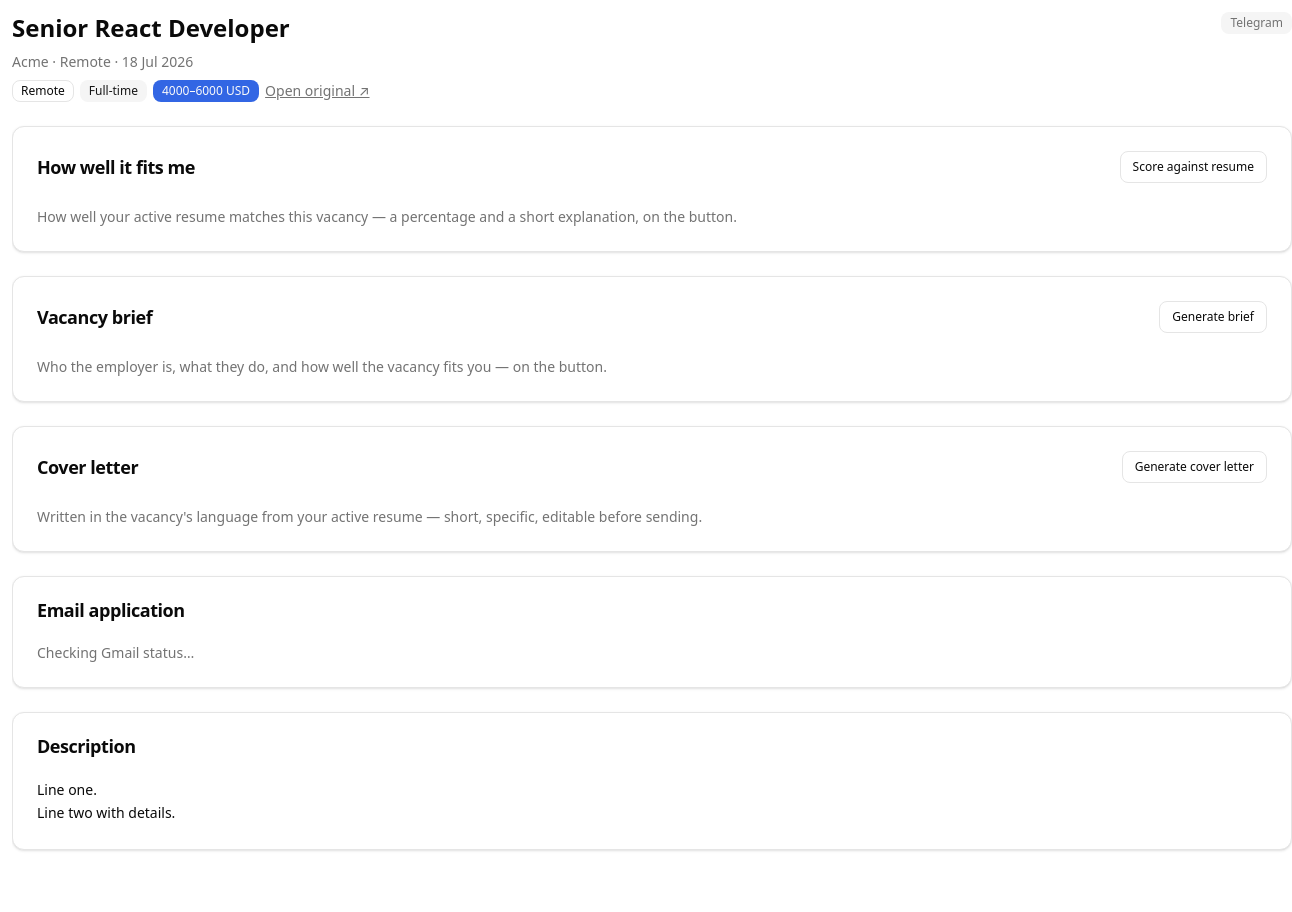
VacancyDetailView › generates a brief on click
Click the button "Generate brief".
click(1213, 317)  # box [1159,301,1267,333]
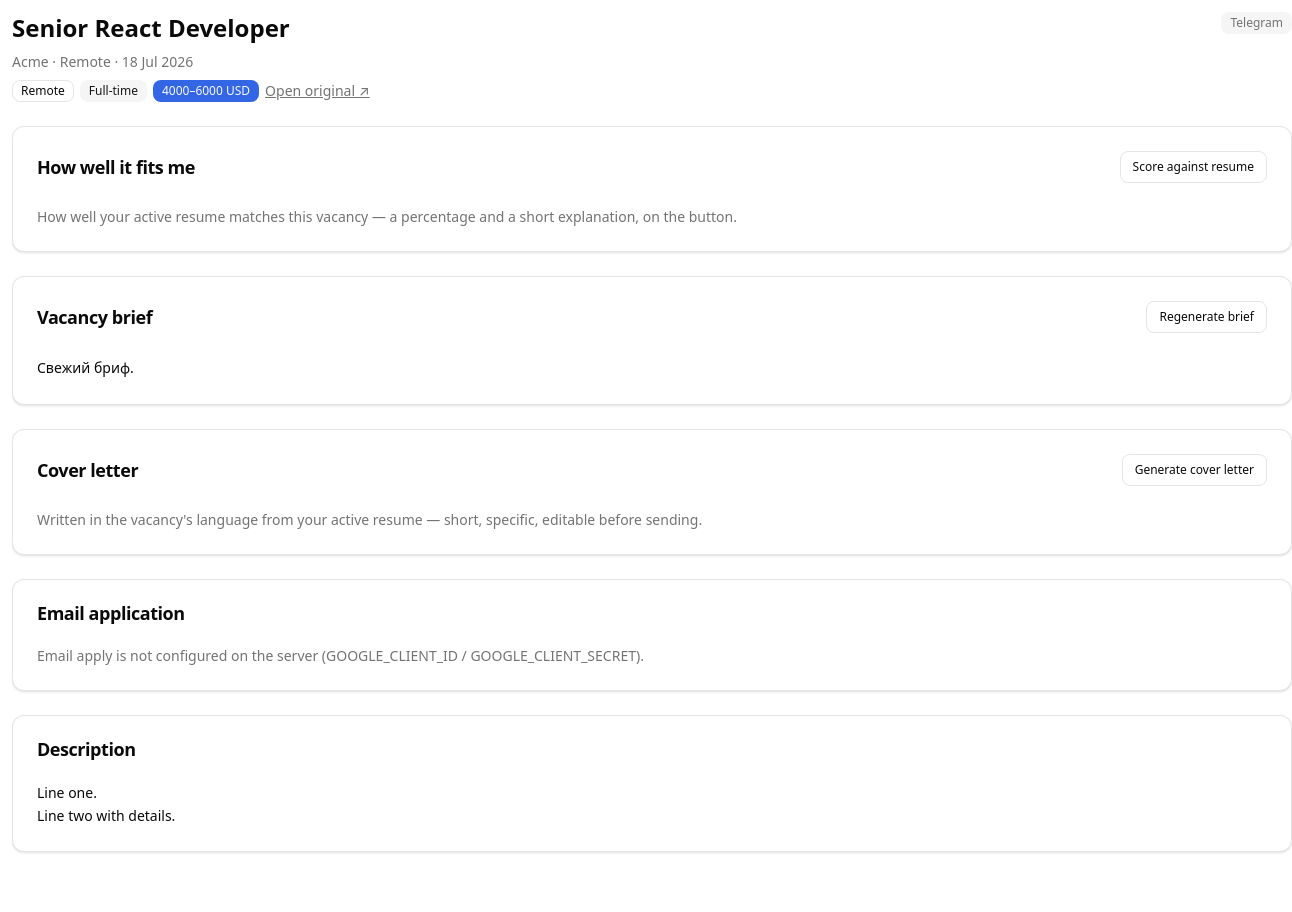
Expected: the text "Свежий бриф." is shown, [37,358,134,377]
